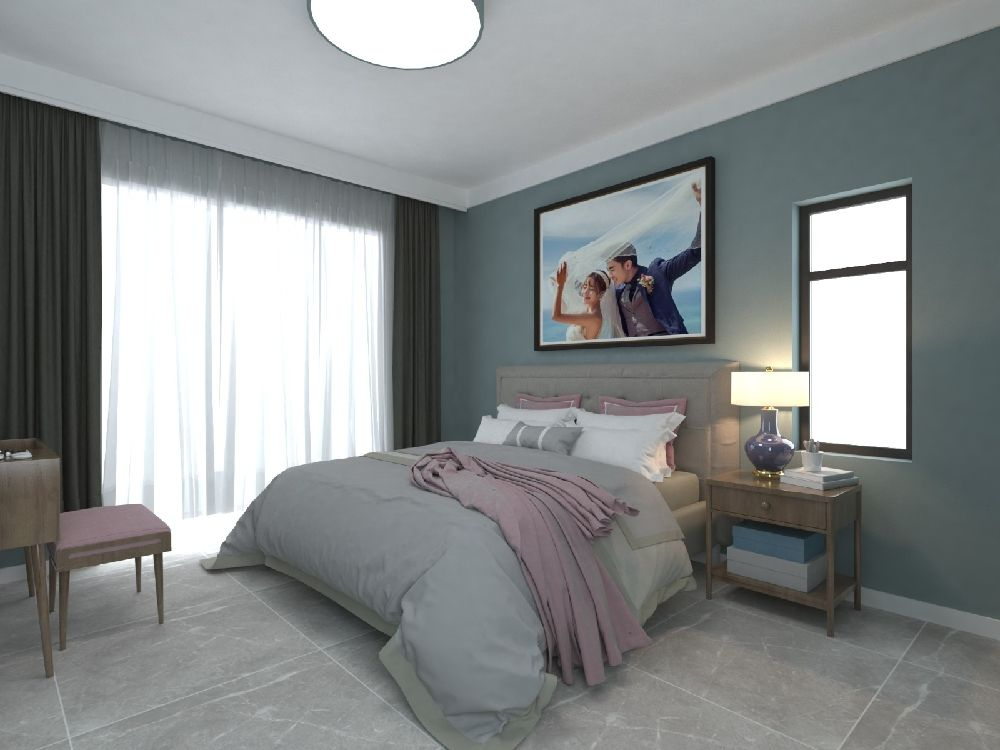床: (235, 445, 699, 701)
枕头: (475, 398, 685, 484)
灯: (308, 0, 491, 76), (732, 363, 818, 478)
